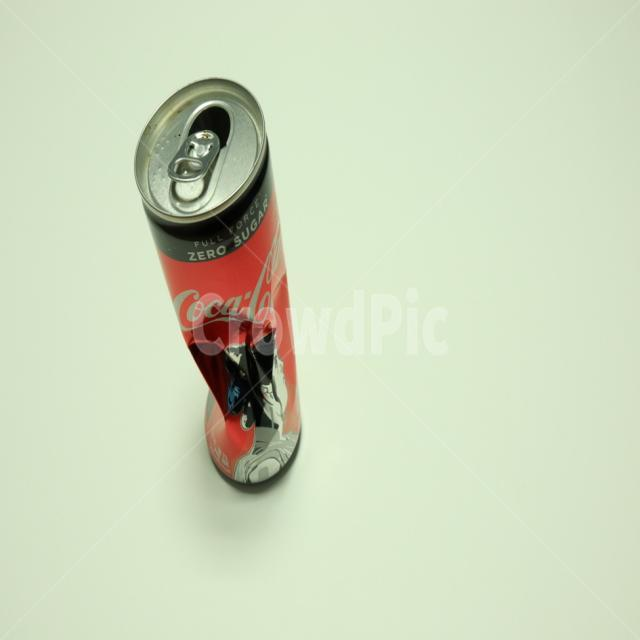coca-cola: (134, 74, 306, 493)
